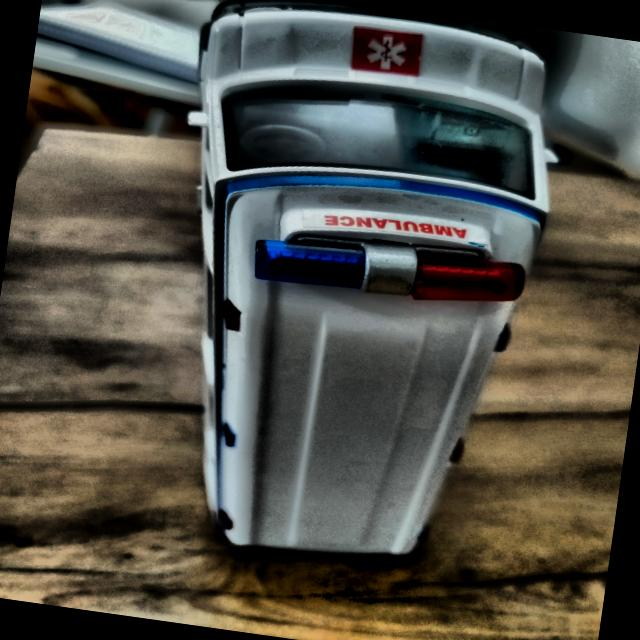Ambulance: (113, 0, 576, 626)
